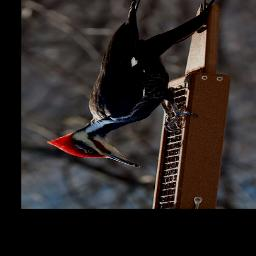Woodpecker: (45, 0, 218, 169)
